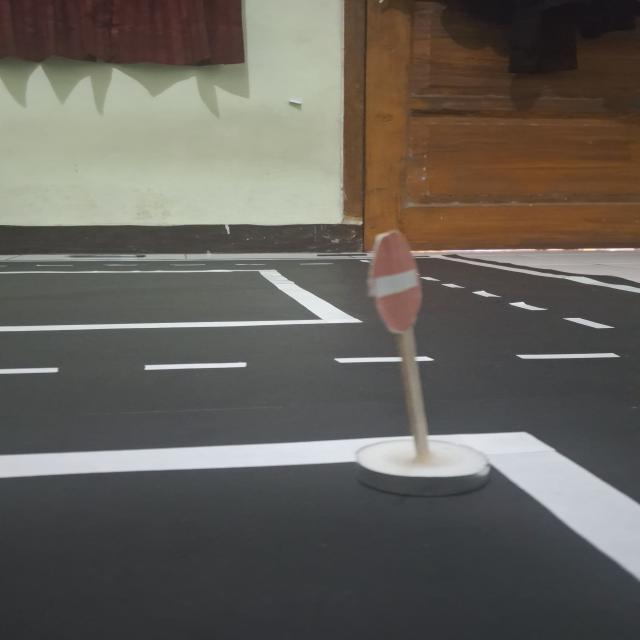Dilarang Masuk: (367, 230, 425, 334)
